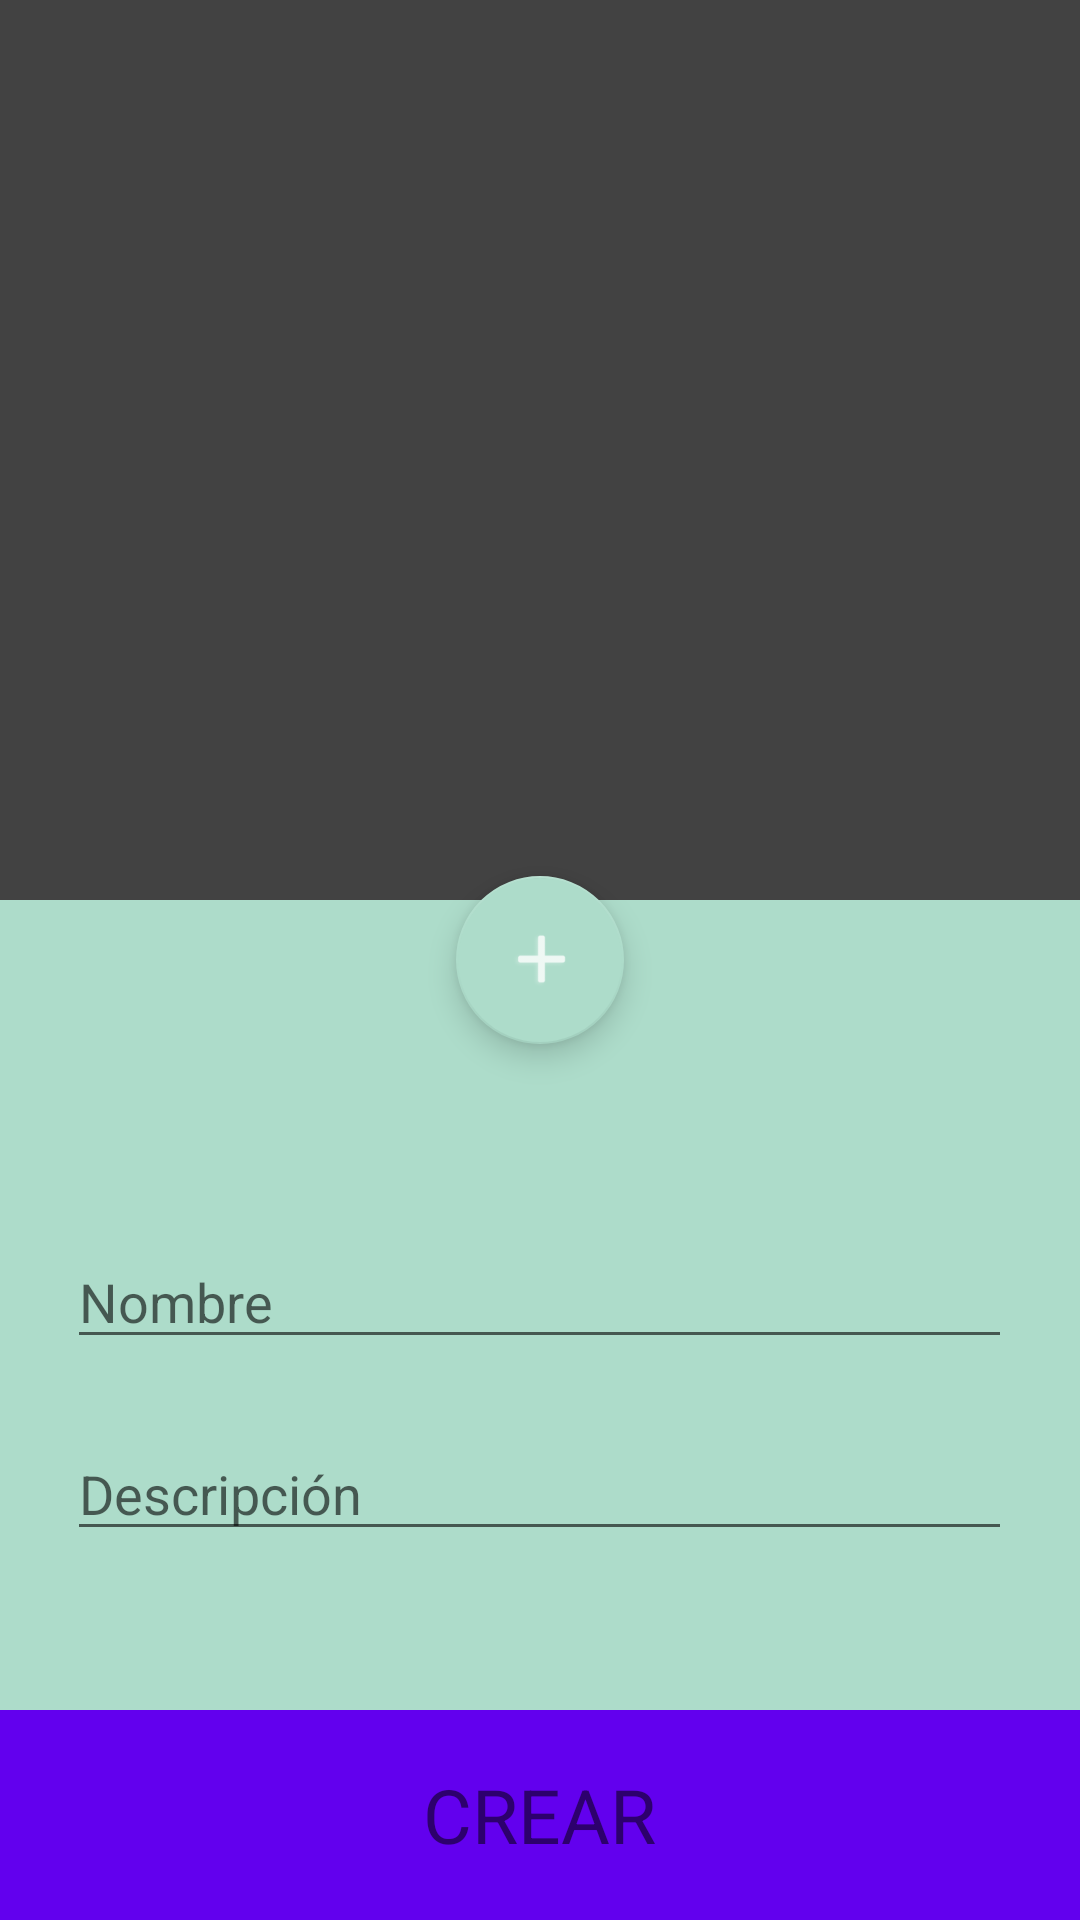

Named icons in this screenshot (1080×1920) and their centers, point (x, y):
Añadir categoría: point (540, 960)
